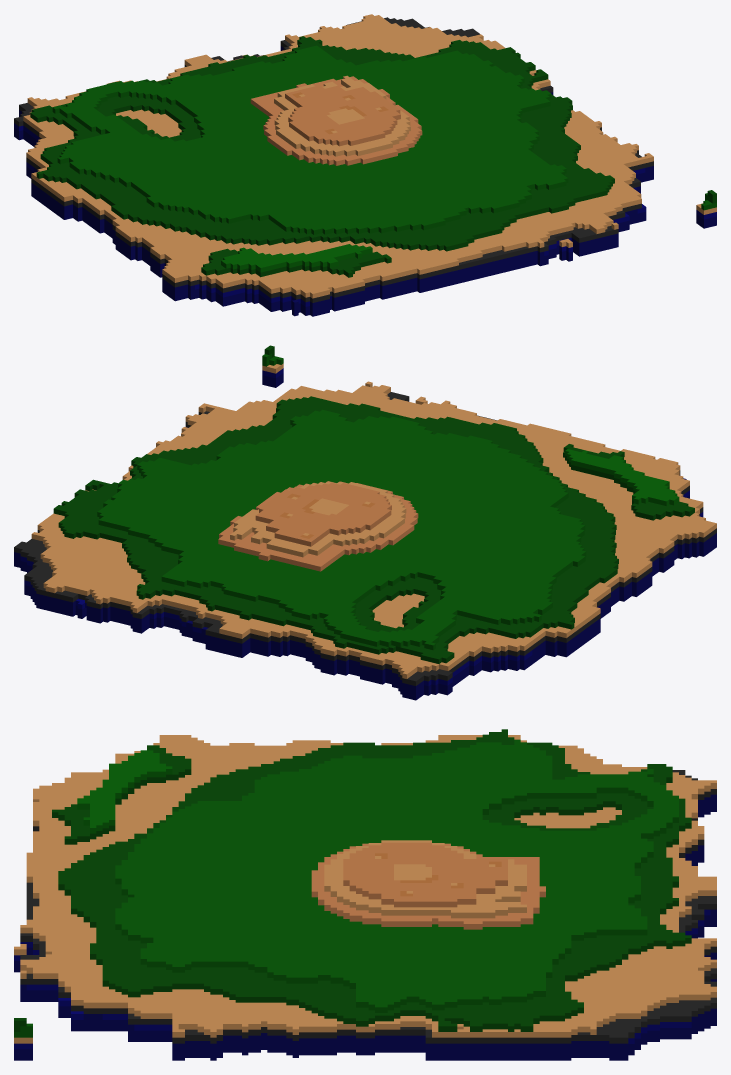
Rendered from MainLand.obj.
3 renders of one model, top to bottom at view 1: azimuth 30°, elevation 25°; view 2: azimuth 150°, elevation 25°; view 3: azimuth 270°, elevation 25°, orthographic. The views are drawn at different scales.
Bounding box in the file's own units: 111 × 10 × 111.
1 material, 1 textured.
